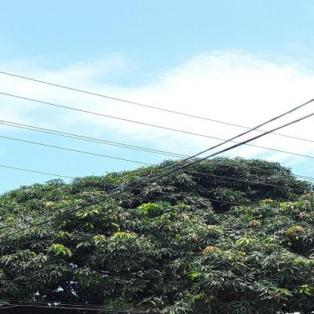Poste: (0, 82, 11, 314)
